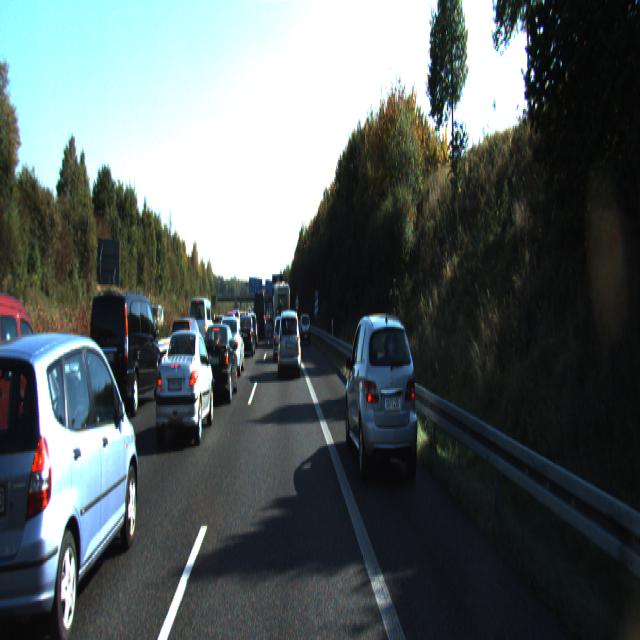Car: (0, 323, 143, 639), (344, 311, 421, 489), (0, 285, 50, 506), (86, 289, 163, 422), (153, 324, 216, 449), (200, 320, 238, 405), (163, 314, 200, 380), (187, 295, 215, 362), (278, 308, 302, 380), (274, 283, 290, 345), (238, 314, 256, 358), (254, 291, 265, 340), (245, 312, 259, 347), (299, 312, 311, 345)
